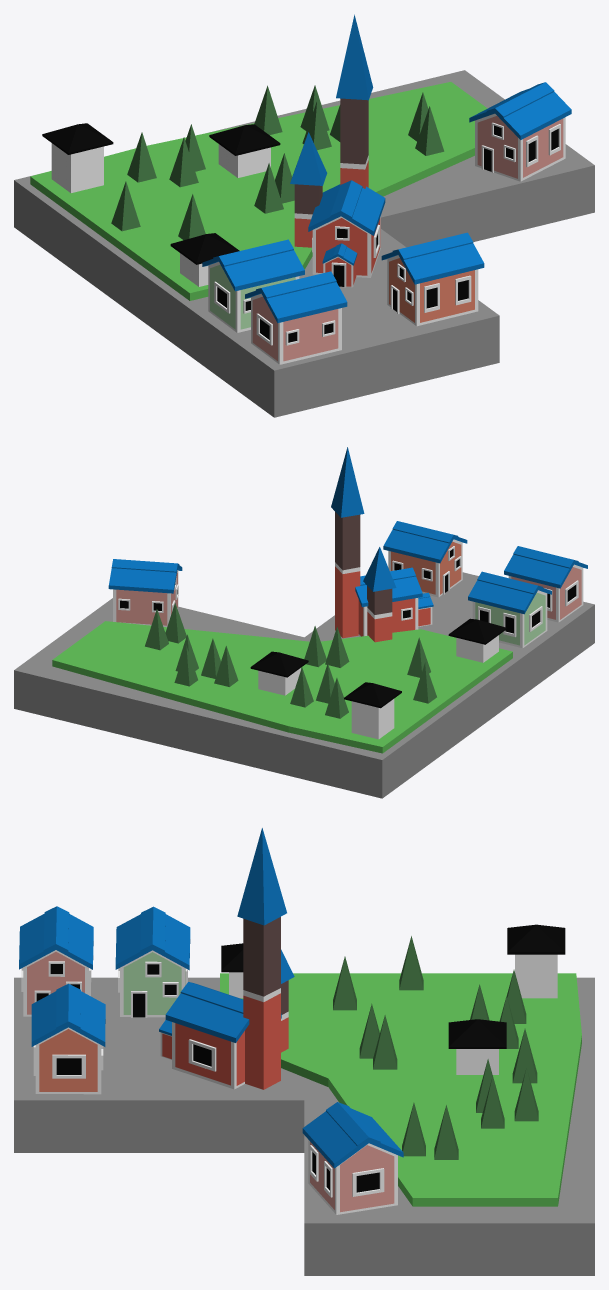
The picture shows the model from 3 angles, top to bottom: view 1: azimuth 30°, elevation 25°; view 2: azimuth 150°, elevation 25°; view 3: azimuth 270°, elevation 25°; orthographic projection. The views are drawn at different scales.
Visible parts, largest first — view 1: Mesh_L_V2; view 2: Mesh_L_V2; view 3: Mesh_L_V2.
Part boxes in pixels (left/top/right/bottom): Mesh_L_V2: left=14, top=14, right=594, bottom=417; Mesh_L_V2: left=14, top=447, right=594, bottom=798; Mesh_L_V2: left=14, top=828, right=594, bottom=1275.
Size of the model in its own units: 200 by 117 by 200.
